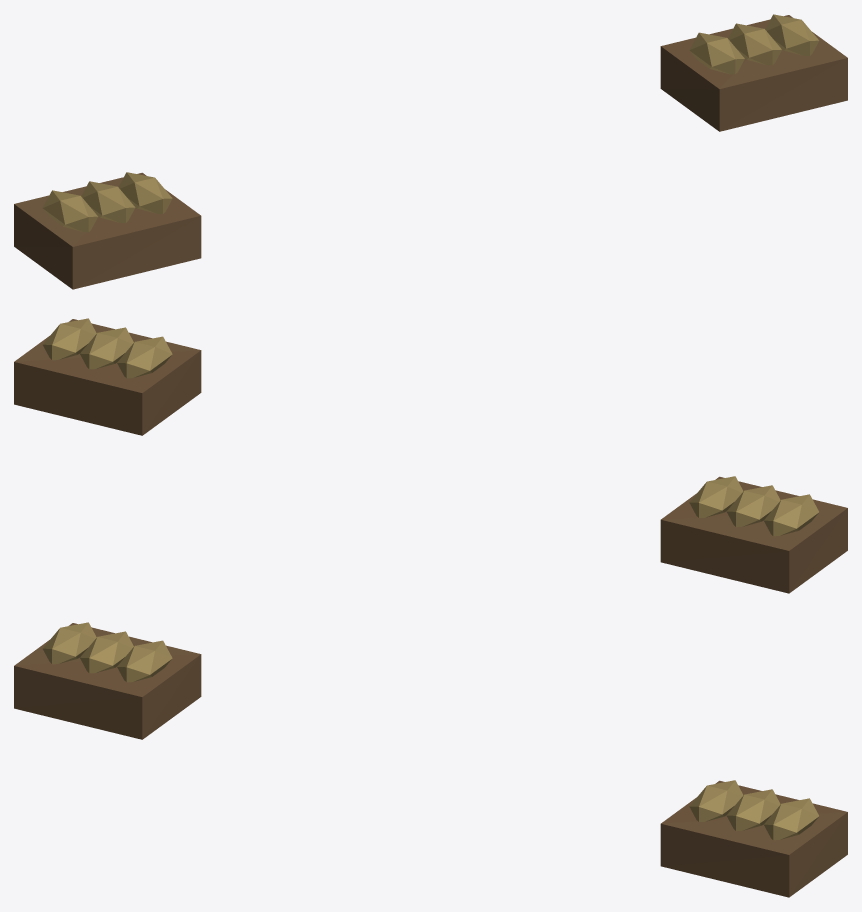
Rendered from RES-05-3.glb.
3 renders of one model, top to bottom at view 1: azimuth 30°, elevation 25°; view 2: azimuth 150°, elevation 25°; view 3: azimuth 330°, elevation 25°, orthographic.
Visible parts, largest first — view 1: city-details/RES-05-3; view 2: city-details/RES-05-3; view 3: city-details/RES-05-3.
Part boxes in pixels (x1,y1,x2,y2): city-details/RES-05-3: [14, 14, 847, 289]; city-details/RES-05-3: [14, 318, 847, 593]; city-details/RES-05-3: [14, 622, 847, 897].
Bounding box in the file's own units: 8.75 × 0.6831 × 1.15.
